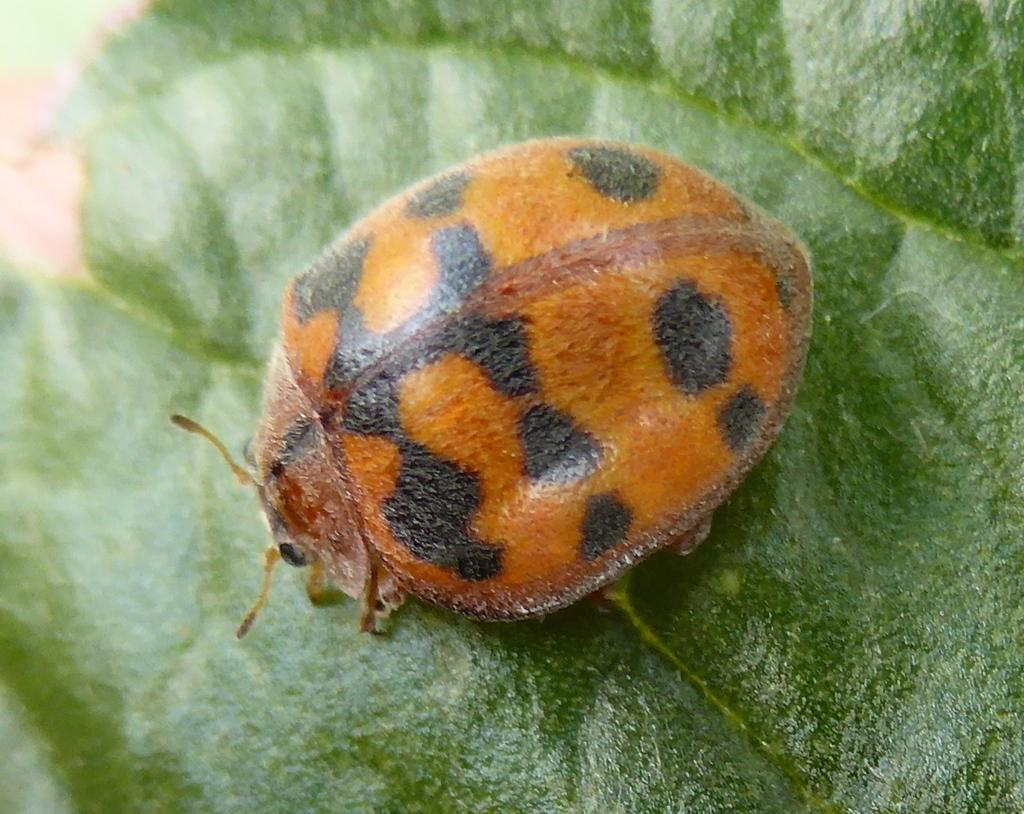ladybug: (173, 133, 823, 645)
